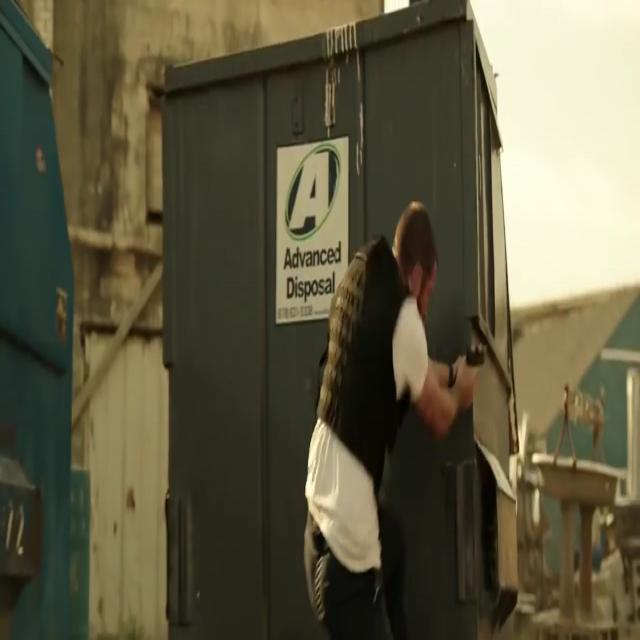Weapon: (442, 287, 524, 423)
